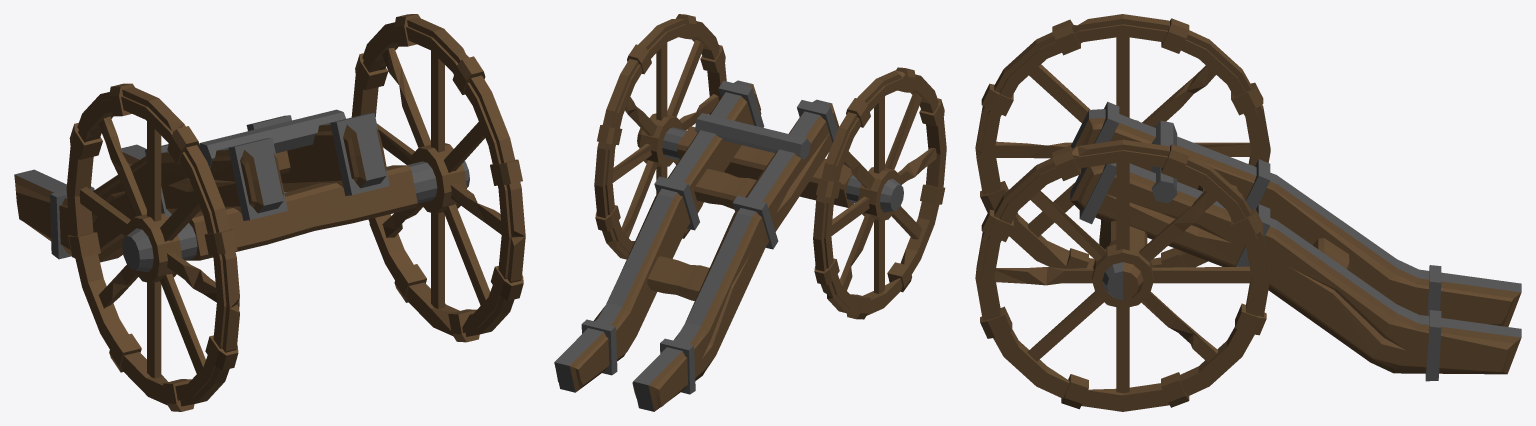
The model's file is CannonBase.FBX.
3 renders of one model, left to right at view 1: azimuth 30°, elevation 25°; view 2: azimuth 150°, elevation 25°; view 3: azimuth 270°, elevation 25°, orthographic. The views are drawn at different scales.
Parts seen in each view (by area): view 1: SM_Prop_Cannon_03; view 2: SM_Prop_Cannon_03; view 3: SM_Prop_Cannon_03.
Boxes of the visible parts, bbox=[...] form: SM_Prop_Cannon_03: bbox=[14, 14, 525, 411]; SM_Prop_Cannon_03: bbox=[554, 14, 946, 411]; SM_Prop_Cannon_03: bbox=[975, 14, 1521, 411].
Bounding box in the file's own units: 1.61 × 2.56 × 1.4.
